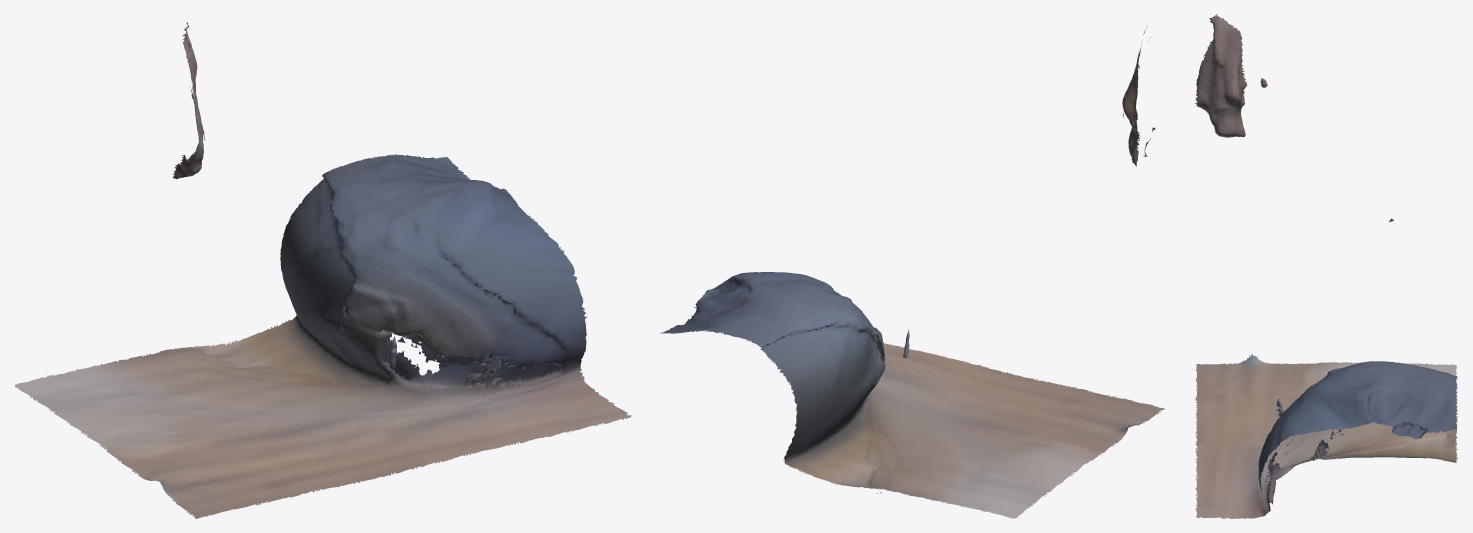
File: apartment-full-80-e6d8331a2821.glb
3 views of the same model, side by side, from view 1: azimuth 30°, elevation 25°; view 2: azimuth 150°, elevation 25°; view 3: azimuth 270°, elevation 25° (orthographic). The views are drawn at different scales.
Size of the model in its own units: 1.25 by 1.41 by 0.918.
